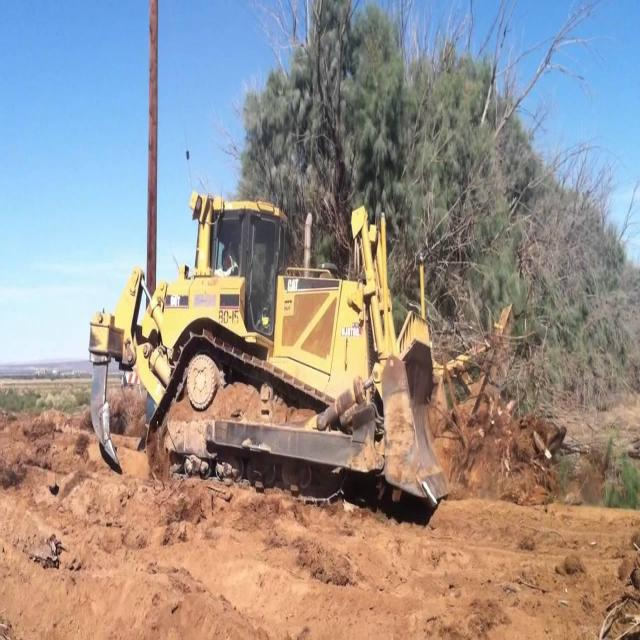Bulldozer: (74, 172, 483, 532)
